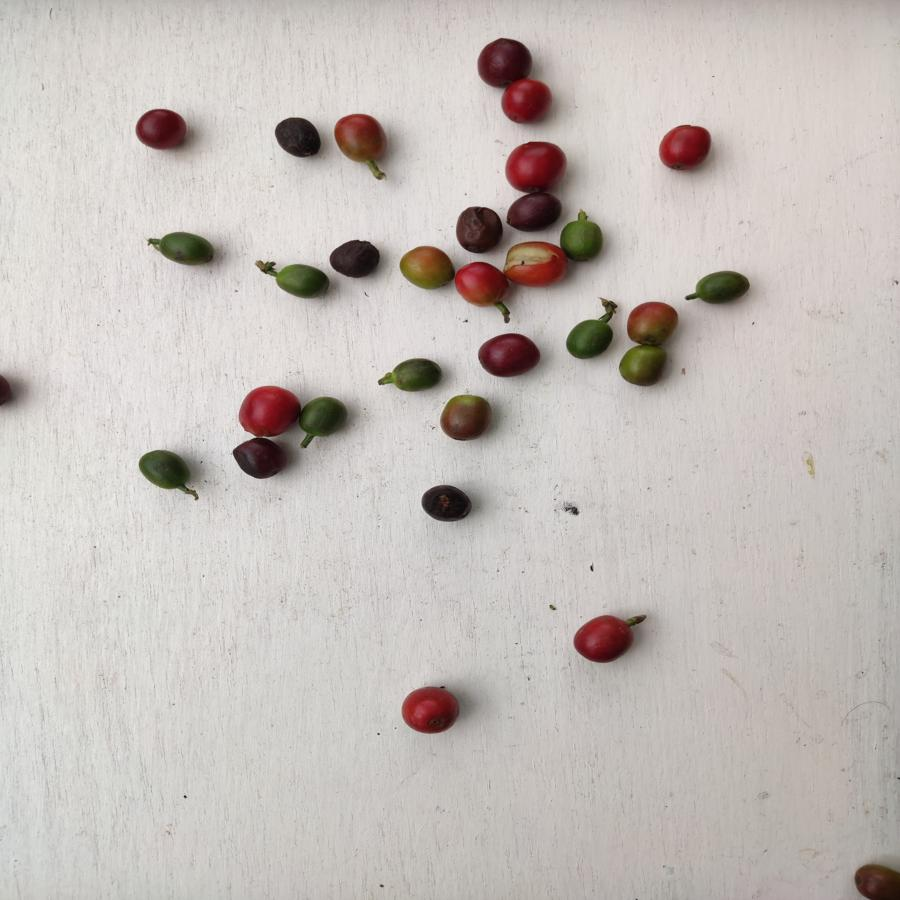Inmaduro: (135, 448, 193, 495), (688, 268, 751, 311), (155, 228, 216, 272), (270, 259, 329, 302), (301, 394, 352, 437), (562, 216, 606, 262), (394, 353, 441, 394), (565, 320, 613, 359)
Maduro: (235, 388, 301, 438), (400, 686, 462, 738), (506, 139, 566, 190), (576, 614, 633, 667), (655, 123, 714, 173), (502, 242, 565, 285), (456, 259, 508, 311), (502, 81, 554, 124)
Pinton: (335, 112, 388, 167), (437, 392, 492, 442), (625, 300, 679, 350), (398, 245, 454, 293), (616, 343, 671, 386), (850, 856, 900, 900)
Sobremaduro: (475, 330, 546, 384), (133, 106, 195, 155), (414, 483, 476, 528), (232, 438, 291, 484), (478, 34, 532, 81), (328, 238, 384, 282), (273, 117, 325, 163), (458, 202, 502, 254), (508, 193, 562, 233)
